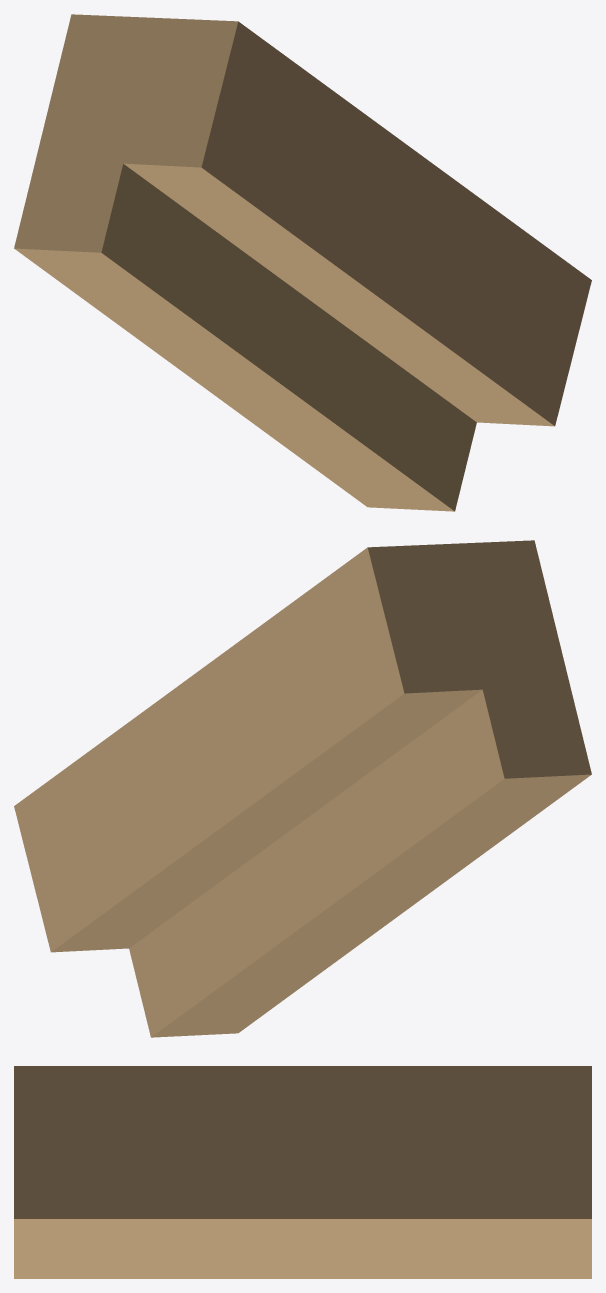
The picture shows the model from 3 angles, top to bottom: view 1: azimuth 30°, elevation 25°; view 2: azimuth 150°, elevation 25°; view 3: azimuth 270°, elevation 25°; orthographic projection. The views are drawn at different scales.
Parts seen in each view (by area): view 1: 0_3_1_3_3_3_2_3_1_0_0; view 2: 0_3_1_3_3_3_2_3_1_0_0; view 3: 0_3_1_3_3_3_2_3_1_0_0.
Boxes of the visible parts, box(x1,y1,x2,y2) form: 0_3_1_3_3_3_2_3_1_0_0: box(14, 14, 591, 511); 0_3_1_3_3_3_2_3_1_0_0: box(14, 540, 591, 1037); 0_3_1_3_3_3_2_3_1_0_0: box(14, 1066, 591, 1278).
Size of the model in its own units: 8.79 by 9.2 by 24.
